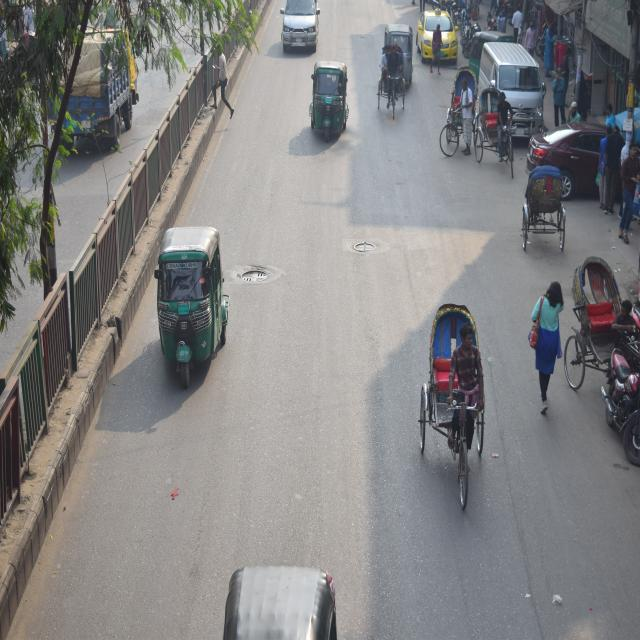car: (522, 109, 626, 204), (421, 1, 464, 82), (278, 5, 326, 48)
microbus: (468, 34, 553, 133)
pickup-van: (43, 13, 138, 161)
